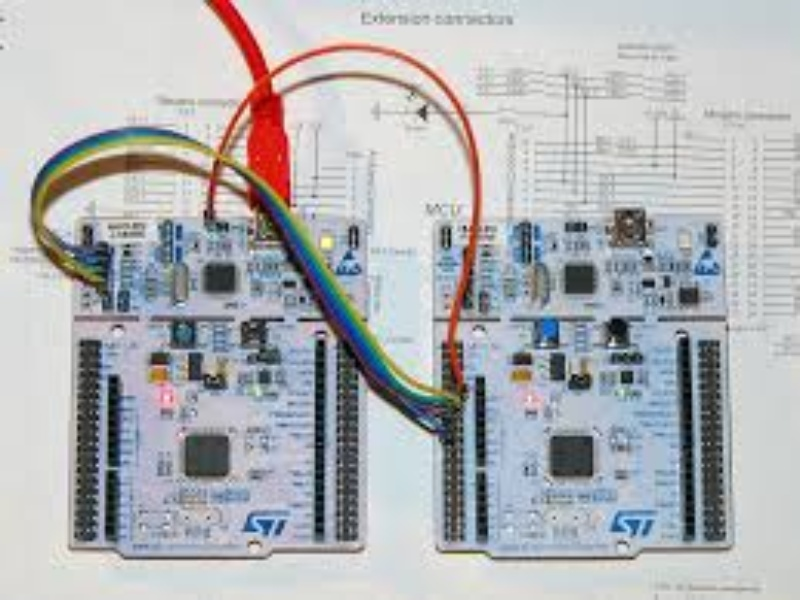stmnucleo: (42, 195, 384, 571), (427, 199, 739, 570)
